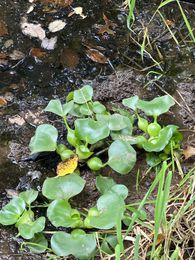water_hyacinth: (1, 81, 178, 260)
